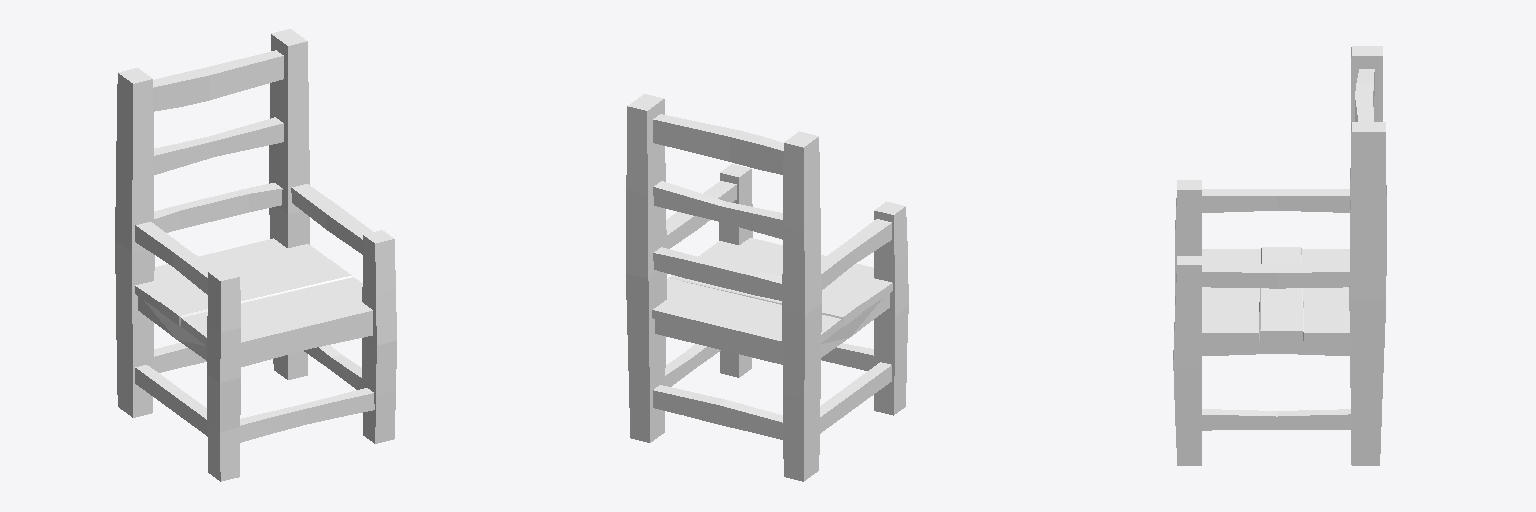
The model's file is Chair1_Texture.obj.
3 renders of one model, left to right at view 1: azimuth 30°, elevation 25°; view 2: azimuth 150°, elevation 25°; view 3: azimuth 270°, elevation 25°, orthographic.
Visible parts, largest first — view 1: chair 2; view 2: chair 2; view 3: chair 2.
Boxes of the visible parts, <box> form: chair 2: <box>115,29,396,481</box>; chair 2: <box>626,94,908,481</box>; chair 2: <box>1173,46,1386,465</box>.
Size of the model in its own units: 71.94 by 129 by 74.64.